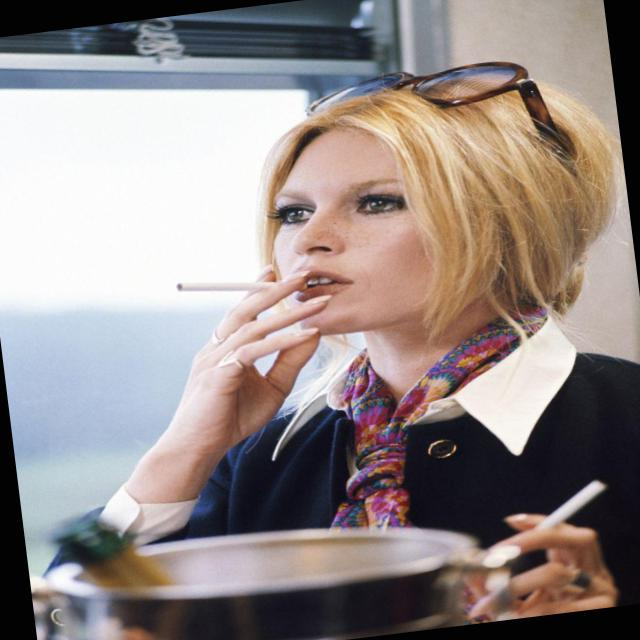smoke: (155, 253, 312, 325)
